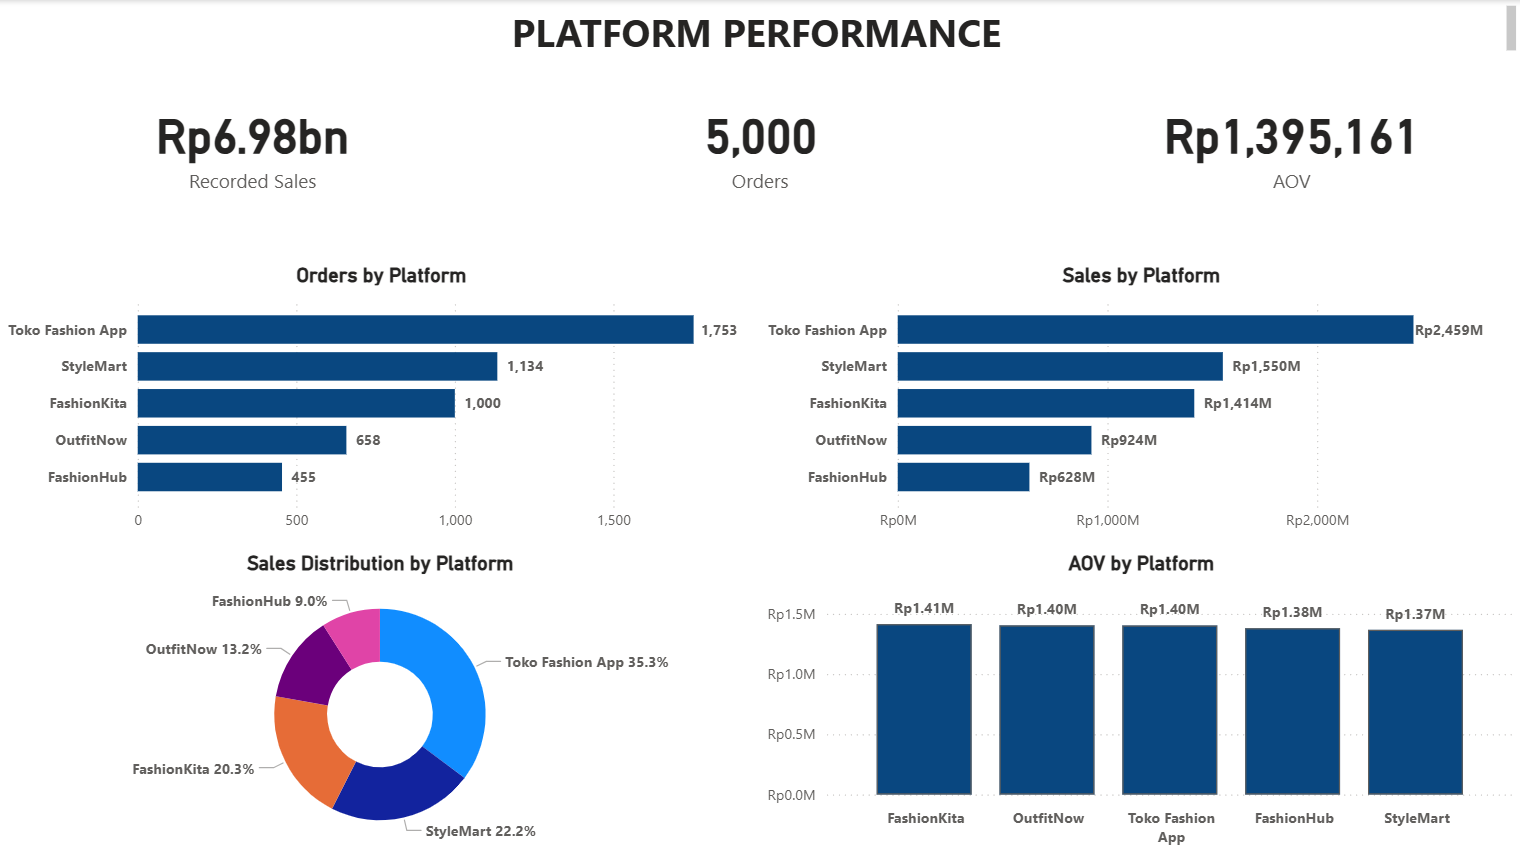

The page's visual inventory and layout, read from the dashboard file:
{"tool":"powerbi","page":{"name":"02_Platform Performance","canvas":[1280,720],"ordinal":2},"visuals":[{"type":"card","fields":{"Values":["_Measures.Recorded Sales"]},"box":[0,50,425.6,141.9],"z":0},{"type":"card","fields":{"Values":["_Measures.Orders"]},"box":[422.1,50,436,141.9],"z":1000},{"type":"card","fields":{"Values":["_Measures.AOV"]},"box":[894.2,50,386,141.9],"z":2000},{"type":"textbox","box":[0,0,1280.2,50],"z":3000},{"type":"clusteredBarChart","title":"Orders by Platform","fields":{"Category":["fashion_sales_clean.Platform"],"Y":["_Measures.Orders"]},"box":[1.2,220.9,639.5,234.9],"z":4000},{"type":"clusteredBarChart","title":"Sales by Platform","fields":{"Category":["fashion_sales_clean.Platform"],"Y":["_Measures.Recorded Sales"]},"box":[640.7,220.9,639.5,234.9],"z":5000},{"type":"donutChart","title":"Sales Distribution by Platform","fields":{"Category":["fashion_sales_clean.Platform"],"Y":["_Measures.Recorded Sales"]},"box":[0,464,639.5,255.8],"z":6000},{"type":"clusteredColumnChart","fields":{"Y":["_Measures.AOV"],"Category":["fashion_sales_clean.Platform"]},"box":[640.7,464,639.5,255.8],"z":7000}]}

Visuals, with their boxes in screenshot pixels (x1, y1, x2, y2), scaled from the page's 1280x720 canvas onto the 1520x856 screenshot:
card - _Measures.Recorded Sales: bbox=[0, 59, 505, 228]
card - _Measures.Orders: bbox=[501, 59, 1019, 228]
card - _Measures.AOV: bbox=[1062, 59, 1519, 228]
textbox: bbox=[0, 0, 1519, 59]
"Orders by Platform" clusteredBarChart: bbox=[1, 263, 761, 542]
"Sales by Platform" clusteredBarChart: bbox=[761, 263, 1519, 542]
"Sales Distribution by Platform" donutChart: bbox=[0, 552, 759, 855]
clusteredColumnChart - _Measures.AOV x fashion_sales_clean.Platform: bbox=[761, 552, 1519, 855]
